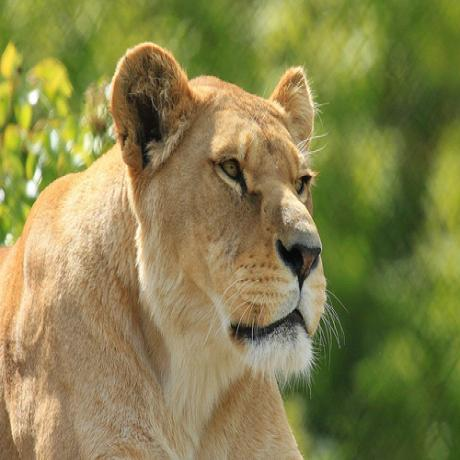Lion: (0, 41, 328, 460)
